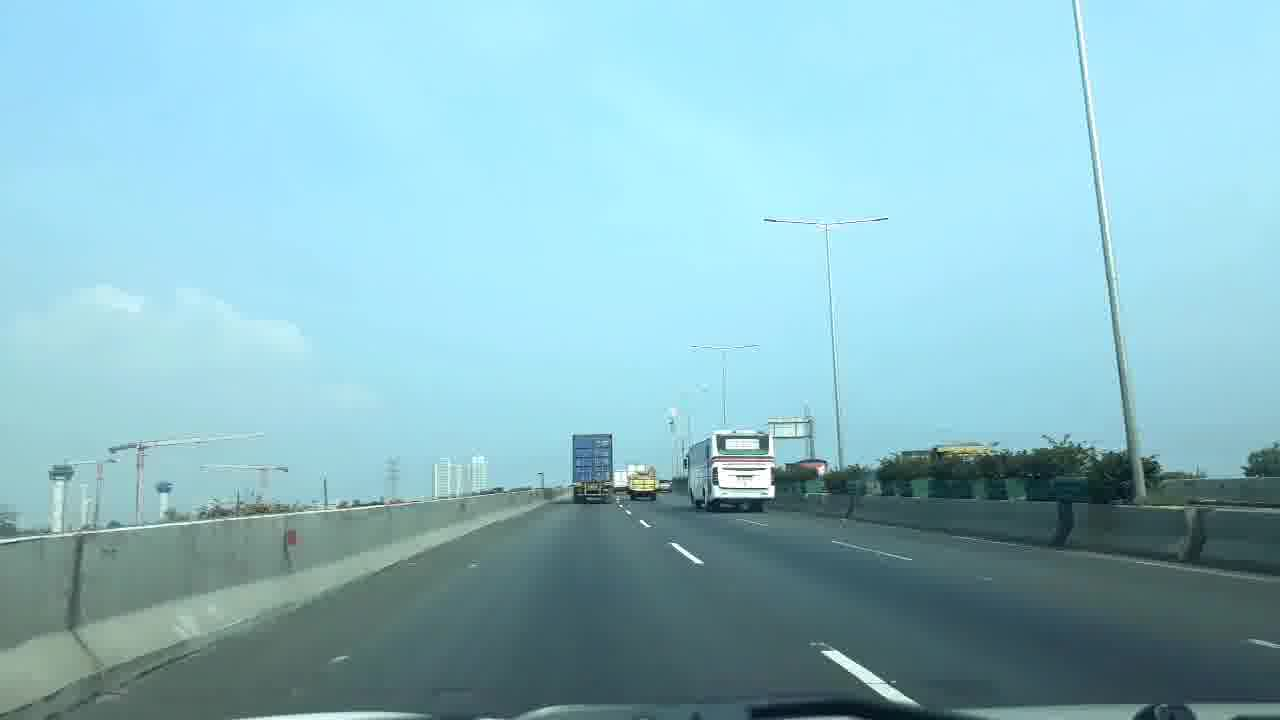plate_positive: (737, 476, 752, 481)
